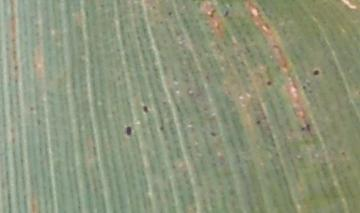tarspot: (304, 122, 312, 136), (124, 125, 133, 136), (141, 104, 149, 115), (208, 8, 216, 19), (311, 68, 320, 77), (222, 10, 230, 19), (265, 80, 273, 88), (208, 131, 217, 138), (12, 64, 19, 73), (35, 117, 41, 127), (157, 124, 164, 132), (28, 105, 35, 113), (201, 106, 209, 113), (10, 135, 16, 144), (254, 119, 261, 126), (166, 10, 173, 17), (299, 126, 306, 133), (301, 83, 307, 91), (340, 150, 346, 157), (160, 100, 167, 106)
